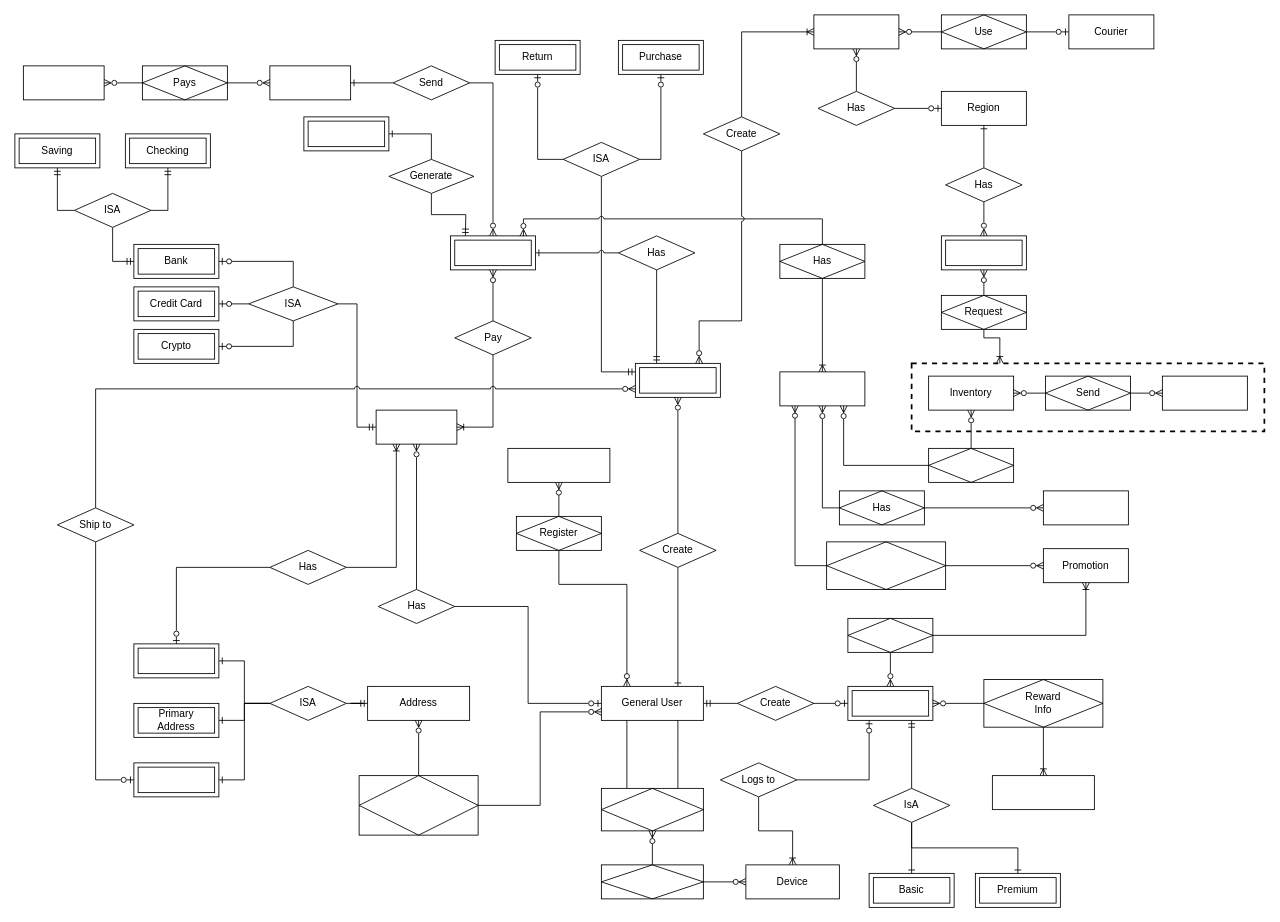
Image size: 1280x922. Some labels were removed from this diagram. Each missing label, with the centre of its shape:
"Account" goes at (x=890, y=703).
"Accounting Dept" goes at (x=310, y=82).
"Billing Address" goes at (x=176, y=660).
"Category" goes at (x=1085, y=507).
"Contains" goes at (x=971, y=465).
"Fulfillment Action" goes at (x=856, y=31).
"Mailing List" goes at (x=558, y=465).
"Order" goes at (x=677, y=380).
"Order Details" goes at (x=493, y=252).
"Payee" goes at (x=63, y=82).
"Payment Method" goes at (x=416, y=426).
"Product" goes at (x=822, y=388).
"Product Promotion Info" goes at (x=886, y=565).
"Receipt" goes at (x=346, y=133).
"Receives" goes at (x=890, y=635).
"Registered User" goes at (x=652, y=809).
"Reward" goes at (x=1043, y=792).
"Session" goes at (x=652, y=881).
"Shipping Address" goes at (x=176, y=779).
"Supplier" goes at (x=1204, y=392).
"User Address Info" goes at (x=418, y=805).
"Warehouse" goes at (x=983, y=252).
